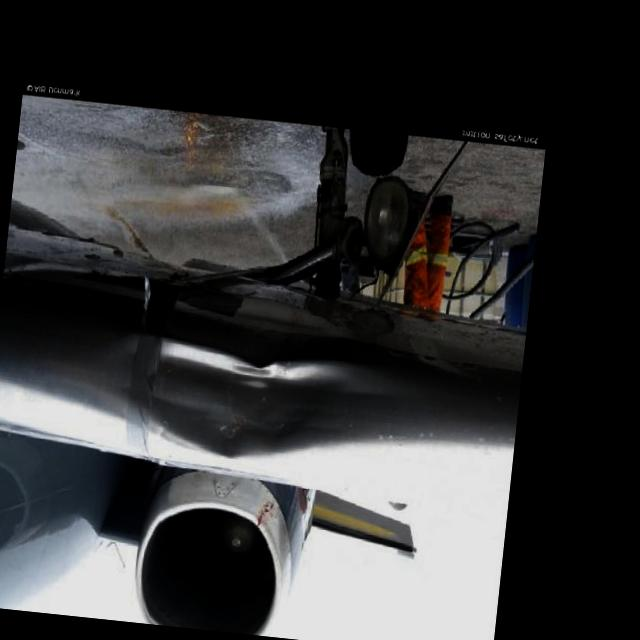dent: (106, 335, 418, 474)
